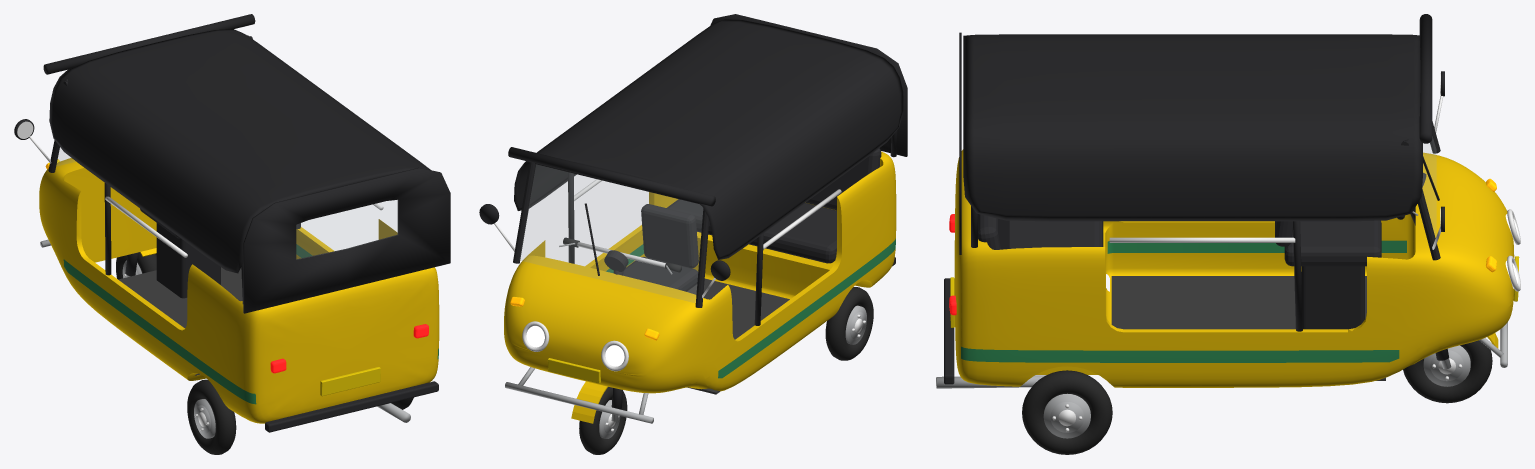
Rendered from auto_rickshaw.glb.
3 renders of one model, left to right at view 1: azimuth 30°, elevation 25°; view 2: azimuth 150°, elevation 25°; view 3: azimuth 270°, elevation 25°, orthographic. The views are drawn at different scales.
Visible parts, largest first — view 1: auto_body, wheel_rear_left, wheel_front; view 2: auto_body, wheel_rear_left, wheel_front; view 3: auto_body, wheel_rear_right, wheel_front.
Part boxes in pixels (box(x1,y1,x2,y2)): auto_body: box(14, 14, 450, 432); wheel_rear_left: box(187, 379, 236, 454); wheel_front: box(116, 252, 156, 279); auto_body: box(479, 14, 907, 423); wheel_rear_left: box(825, 287, 873, 360); wheel_front: box(579, 387, 627, 454); auto_body: box(936, 14, 1520, 388); wheel_rear_right: box(1022, 370, 1112, 454); wheel_front: box(1403, 340, 1492, 403).
Bounding box in the file's own units: 1.64 × 1.72 × 2.77.
